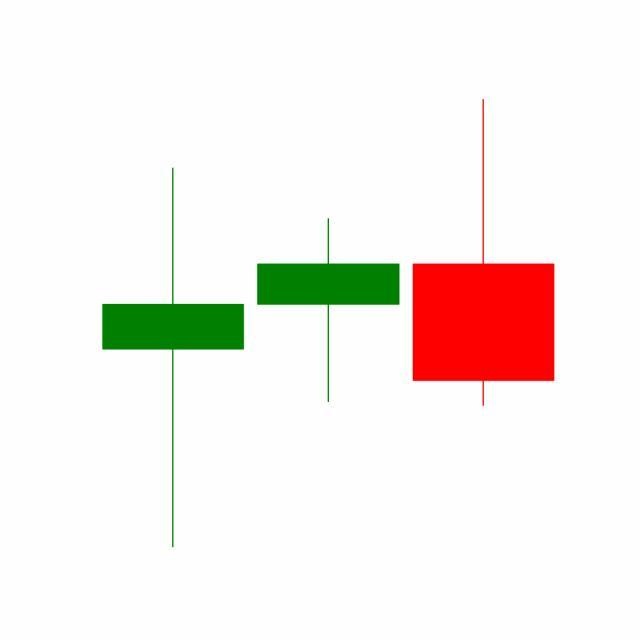Spinning Top: (250, 217, 407, 405)
